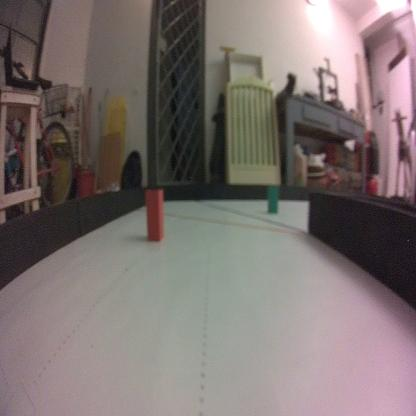green: (266, 184, 280, 216)
red: (144, 188, 165, 244)
